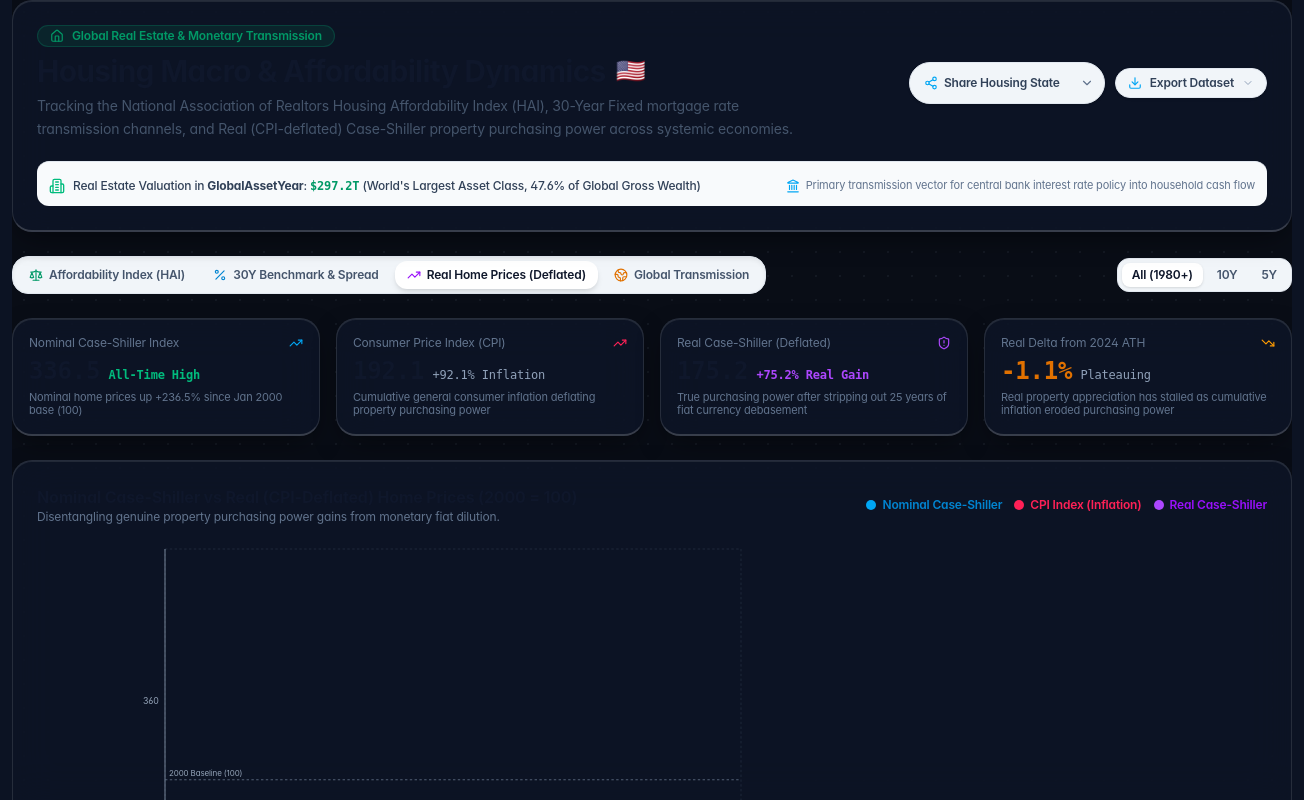
HousingMacroRadar Component › switches to Global Transmission view and renders all country buttons and table
Click the button "Global Transmission" at (682, 274), box top-left (602, 260), bottom-right (761, 288)
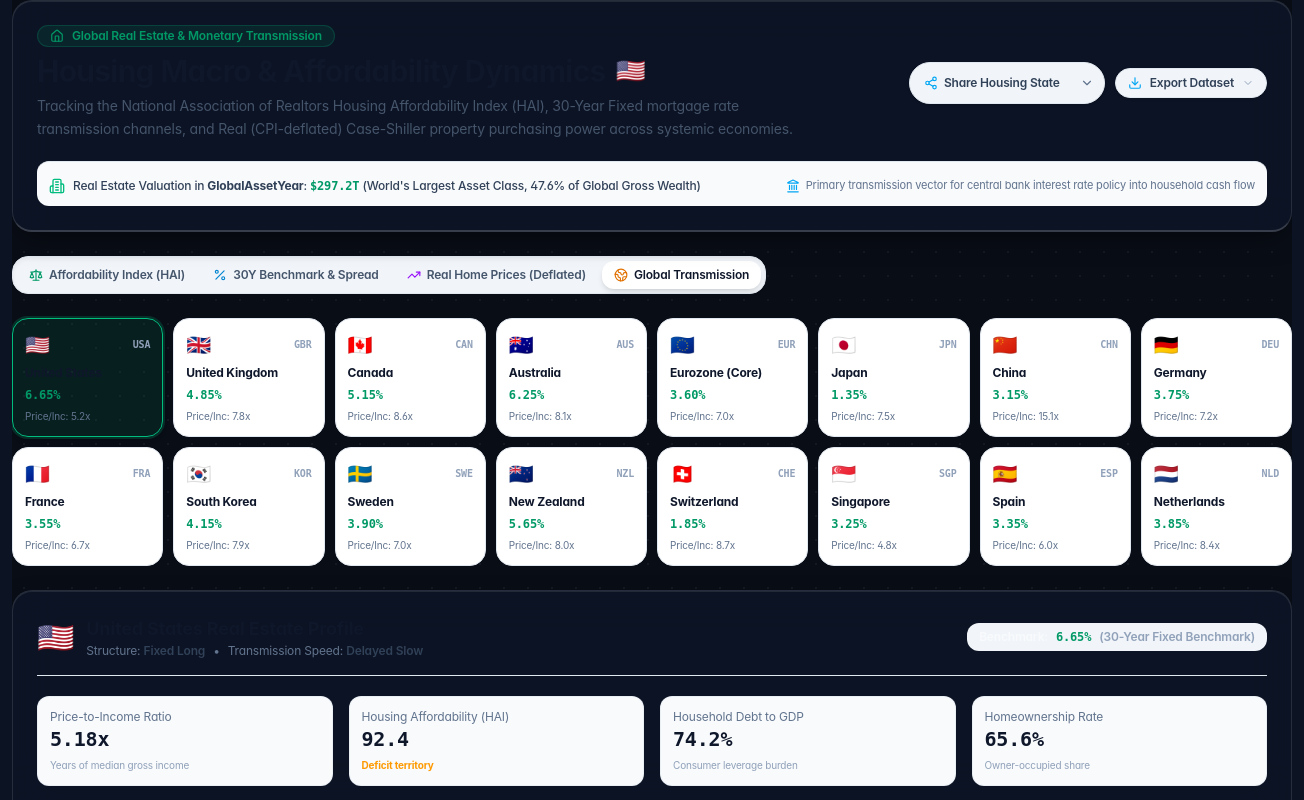
Check: the text "United Kingdom" is shown, box top-left (186, 364), bottom-right (278, 380)
Check: the text "Canada" is shown, box top-left (348, 364), bottom-right (393, 380)
Check: the text "Australia" is shown, box top-left (509, 364), bottom-right (561, 380)
